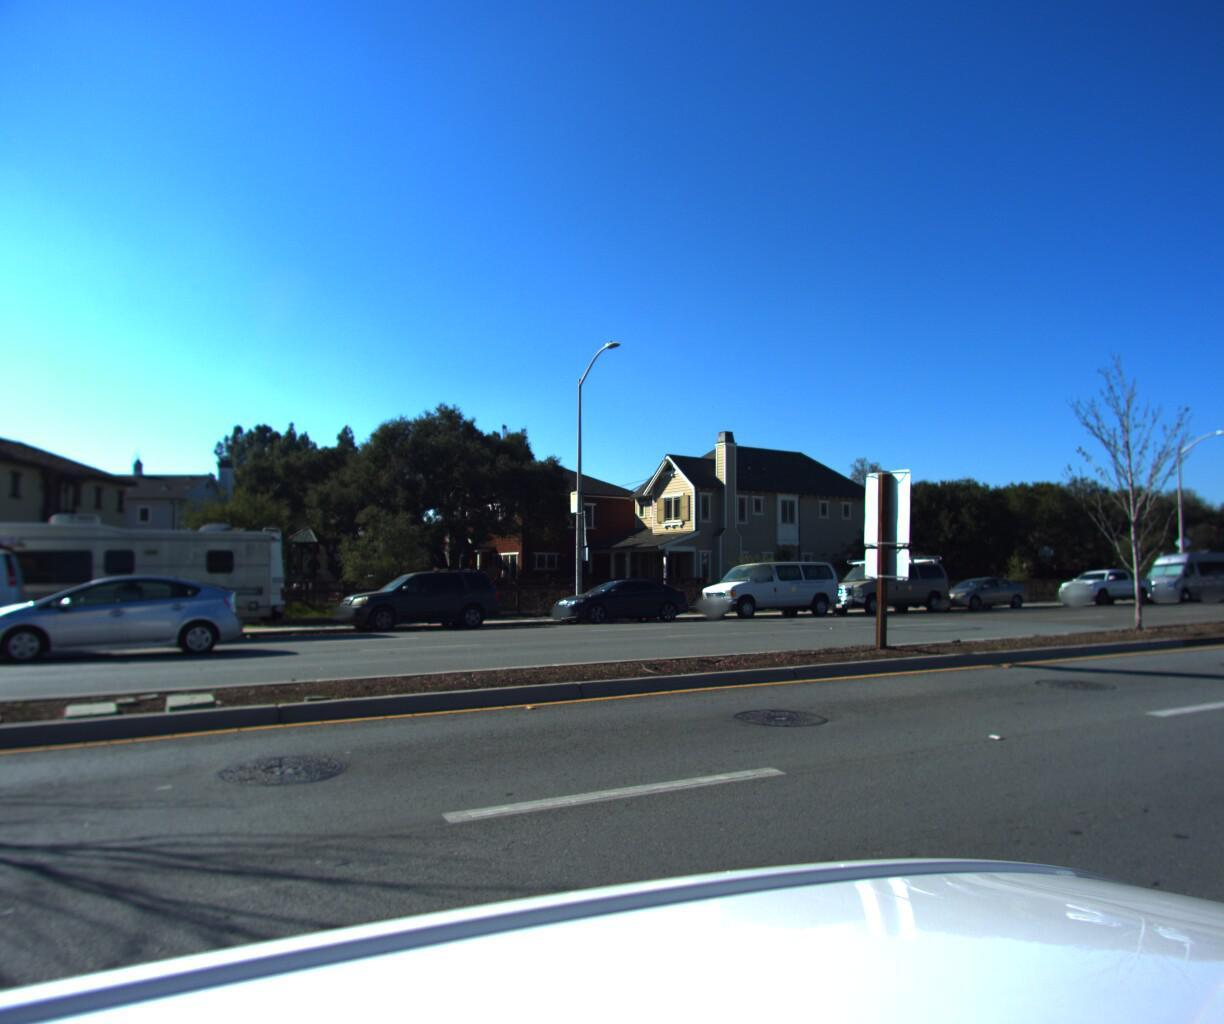car: (0, 571, 248, 664), (326, 564, 513, 633), (690, 552, 845, 618), (540, 575, 697, 626), (819, 553, 953, 612), (1124, 542, 1224, 602), (0, 525, 32, 676), (1047, 562, 1156, 604), (922, 574, 1033, 606), (1219, 570, 1224, 599)
other_vehicle: (0, 499, 297, 649)
